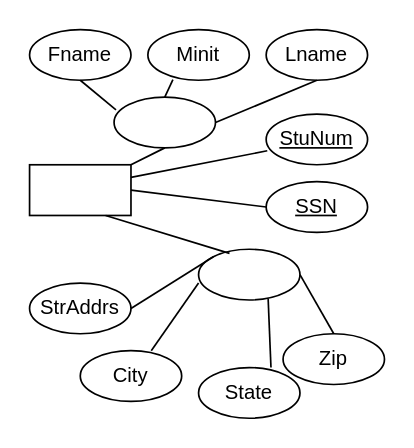
The diagram is 414 pixels wide and 448 high, and some of its shapes have lost their labels. Each missing label, with the centre of its shape:
PerAddrs: the point at 248,274
Student: the point at 79,189
StuName: the point at 163,121
